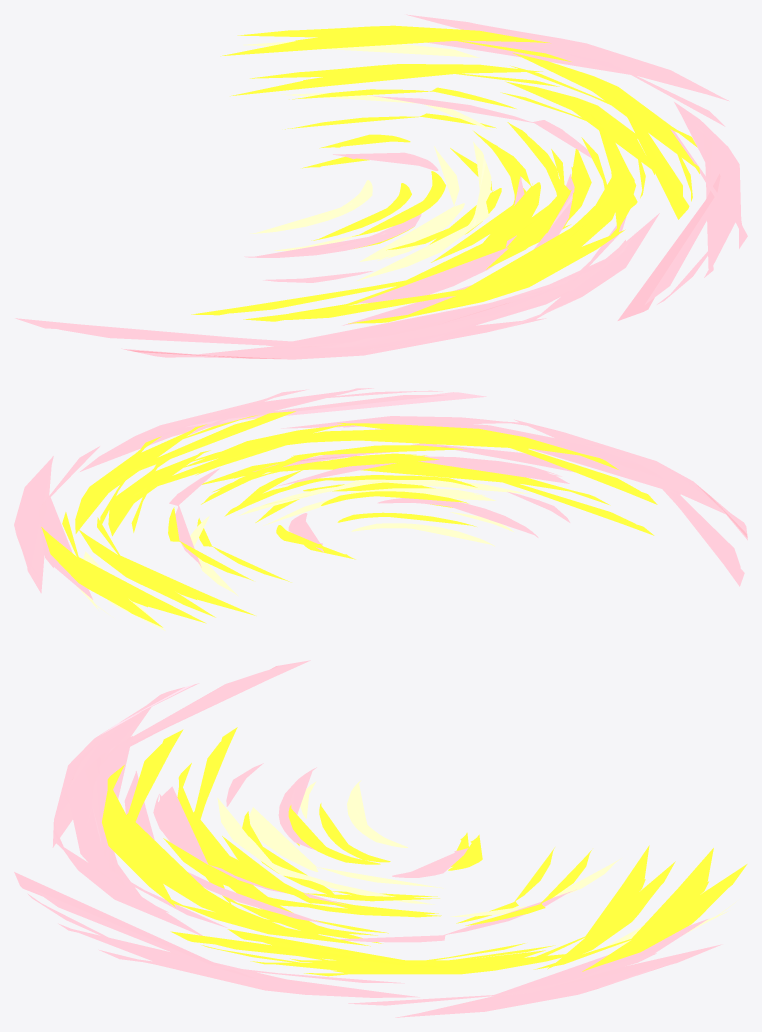
Rendered from electro_throw.glb.
The picture shows the model from 3 angles, top to bottom: view 1: azimuth 30°, elevation 25°; view 2: azimuth 150°, elevation 25°; view 3: azimuth 270°, elevation 25°; orthographic projection. The views are drawn at different scales.
Visible parts, largest first — view 1: Circle.002, Circle, Circle.005, Circle.004; view 2: Circle.002, Circle, Circle.005, Circle.004; view 3: Circle.002, Circle, Circle.005, Circle.004.
Boxes of the visible parts, <box> form: Circle.002: <box>15,14,747,359</box>; Circle: <box>220,25,699,323</box>; Circle.005: <box>191,64,654,315</box>; Circle.004: <box>243,41,491,280</box>; Circle.002: <box>14,388,747,599</box>; Circle: <box>41,411,657,627</box>; Circle.005: <box>79,445,654,617</box>; Circle.004: <box>75,479,530,630</box>; Circle.002: <box>14,660,722,1017</box>; Circle: <box>102,729,747,976</box>; Circle.005: <box>177,727,675,972</box>; Circle.004: <box>217,780,736,947</box>.
Size of the model in its own units: 5.22 by 0.0845 by 4.52.
